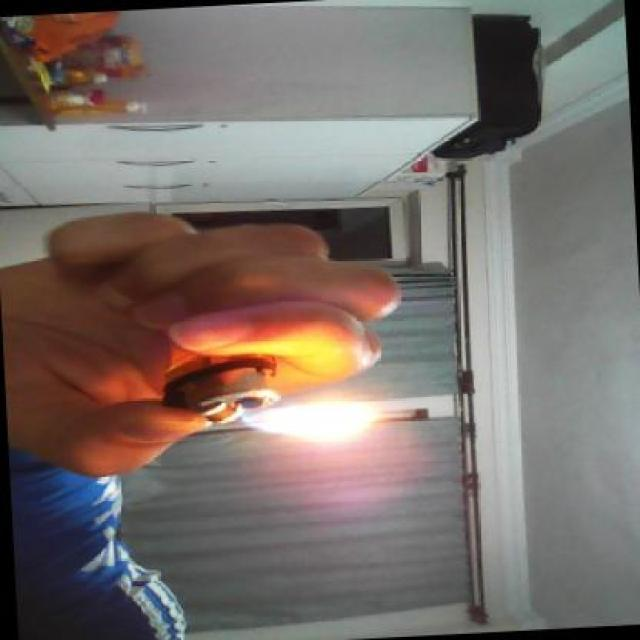Fire: (243, 394, 389, 458)
